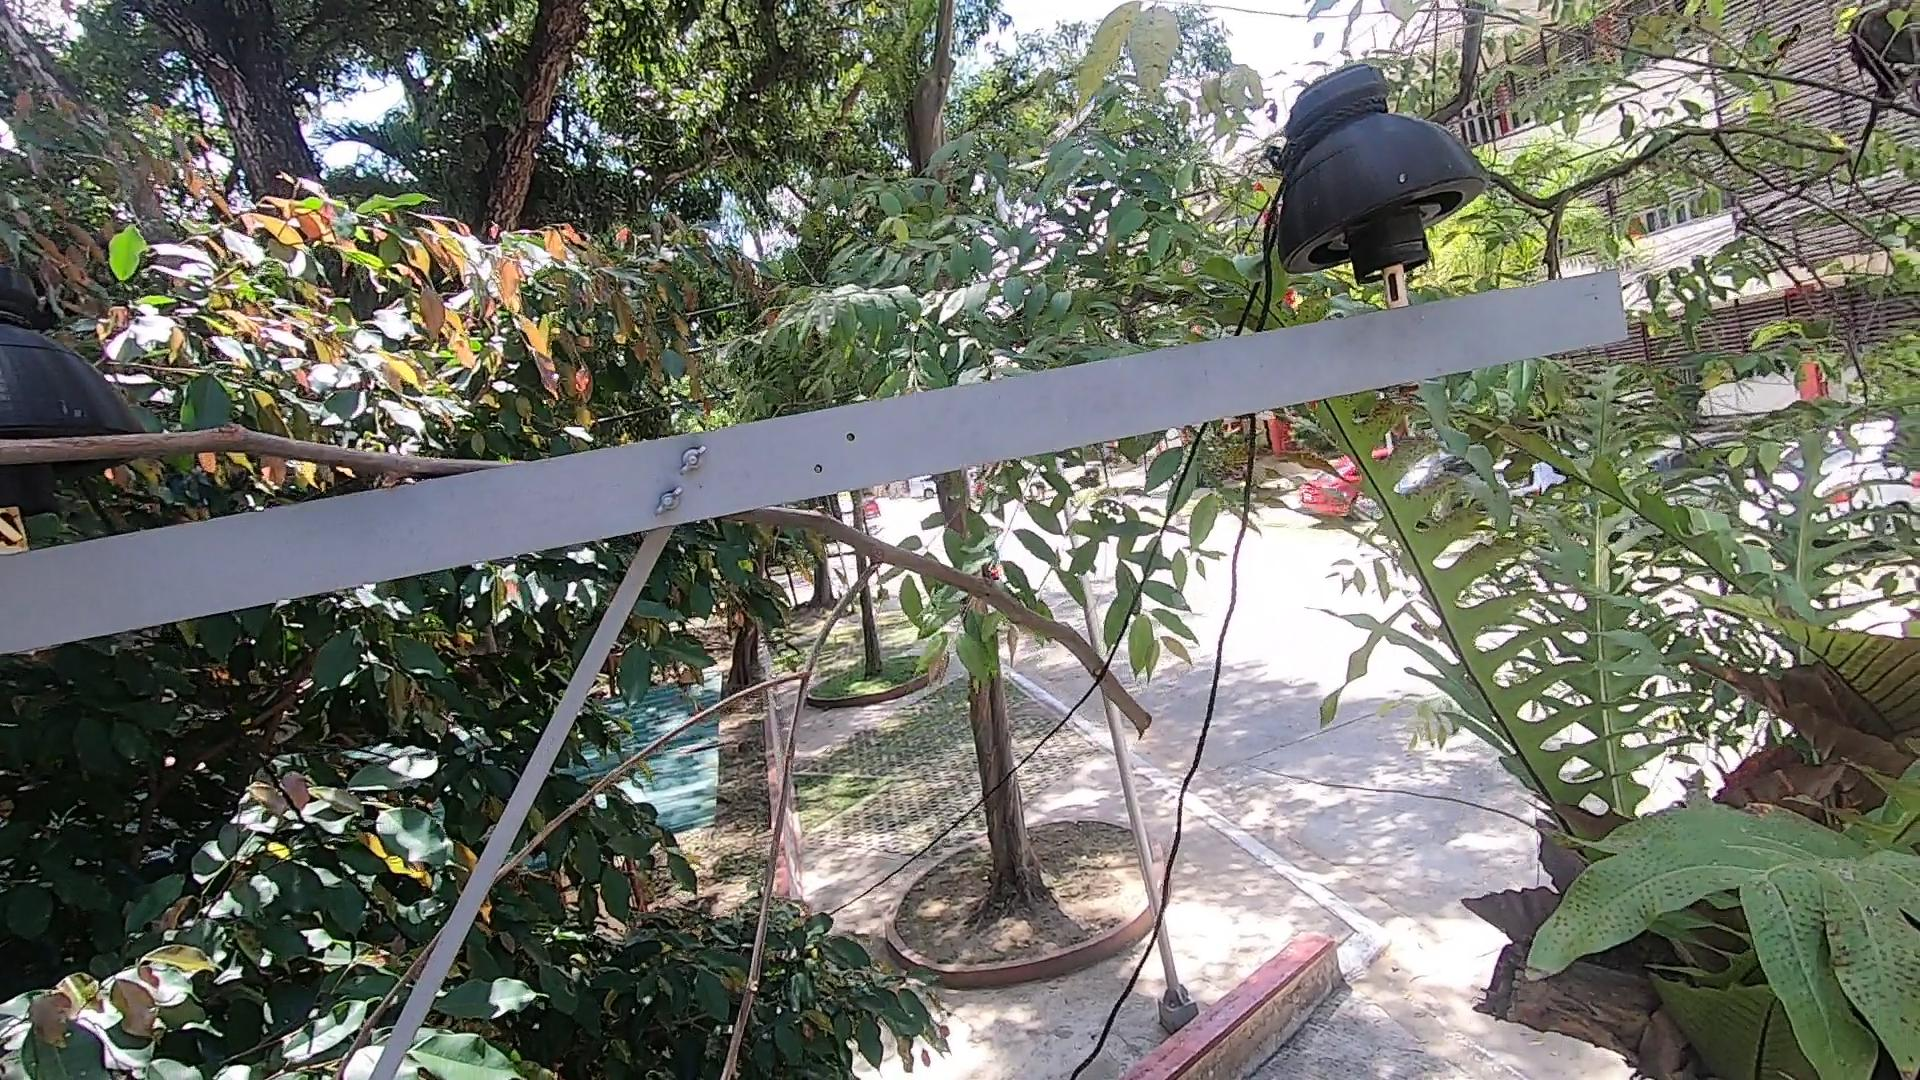tree branch: (339, 508, 1178, 1080), (1, 421, 502, 556)
